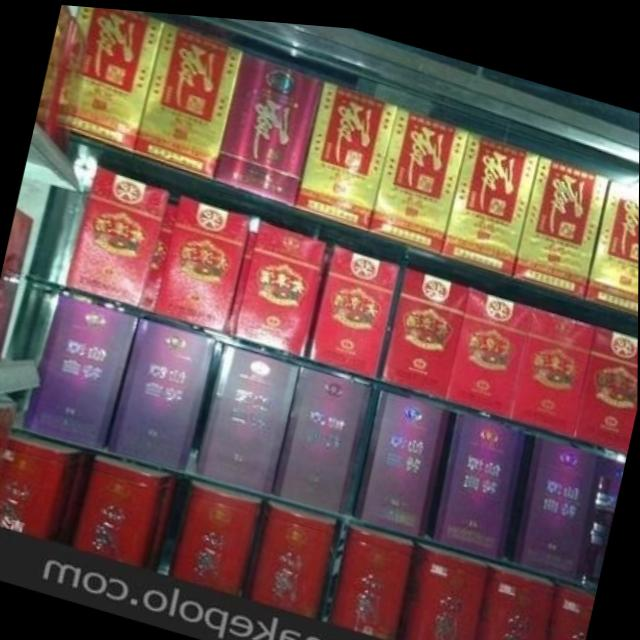box: (23, 292, 139, 447), (215, 46, 323, 205), (134, 19, 243, 176), (106, 315, 217, 468), (52, 5, 164, 152), (294, 74, 399, 226), (196, 338, 299, 489), (270, 359, 374, 508), (426, 402, 526, 553), (441, 121, 541, 271), (65, 165, 170, 307), (369, 98, 469, 247), (353, 380, 452, 528), (507, 424, 603, 572), (513, 146, 609, 293), (153, 191, 249, 332), (230, 215, 326, 354), (68, 450, 179, 569), (242, 493, 342, 617), (308, 240, 400, 371), (509, 298, 597, 430), (168, 474, 263, 595), (380, 261, 468, 391), (326, 514, 417, 638), (447, 280, 532, 412), (0, 429, 93, 547), (398, 534, 492, 640), (576, 316, 638, 444), (586, 167, 639, 306), (474, 552, 555, 640), (545, 572, 596, 640)
